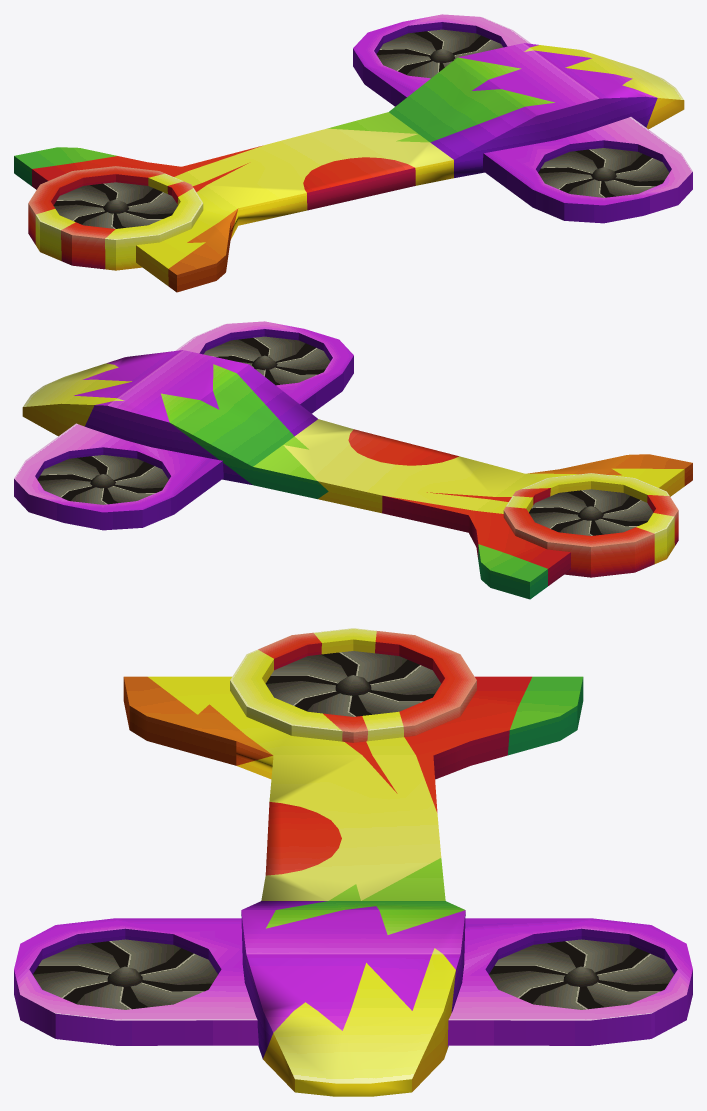
File: buenosAiresBoard01.glb
3 renders of one model, top to bottom at view 1: azimuth 30°, elevation 25°; view 2: azimuth 150°, elevation 25°; view 3: azimuth 270°, elevation 25°, orthographic. The views are drawn at different scales.
Visible parts, largest first — view 1: buenosAiresBoard01, FanTop (×3); view 2: buenosAiresBoard01, FanTop (×3); view 3: buenosAiresBoard01, FanTop (×3).
Boxes of the visible parts, x1,y1,x2,y2 form: buenosAiresBoard01: (14, 14, 692, 292); FanTop (×3): (53, 29, 669, 228); buenosAiresBoard01: (14, 321, 692, 599); FanTop (×3): (37, 336, 653, 535); buenosAiresBoard01: (14, 628, 692, 1096); FanTop (×3): (33, 651, 673, 1009).
Bounding box in the file's own units: 11.74 × 1.05 × 7.77.
1 material, 1 textured.
